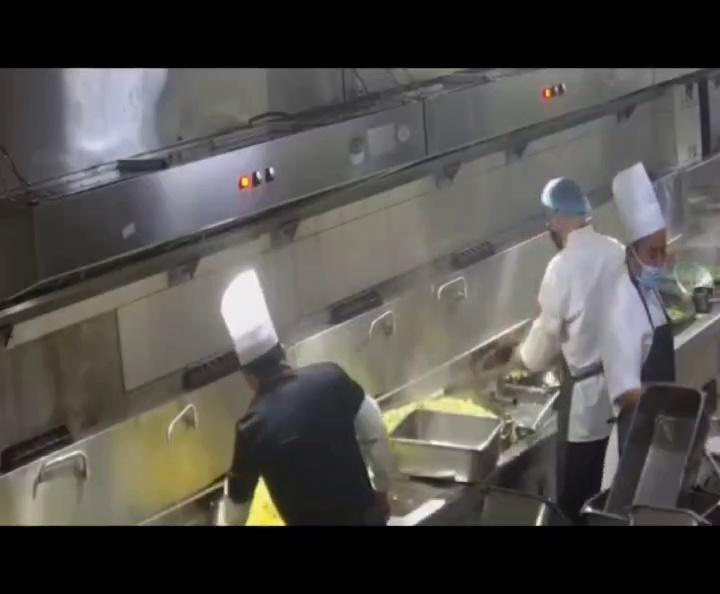mask: (640, 245, 670, 292)
